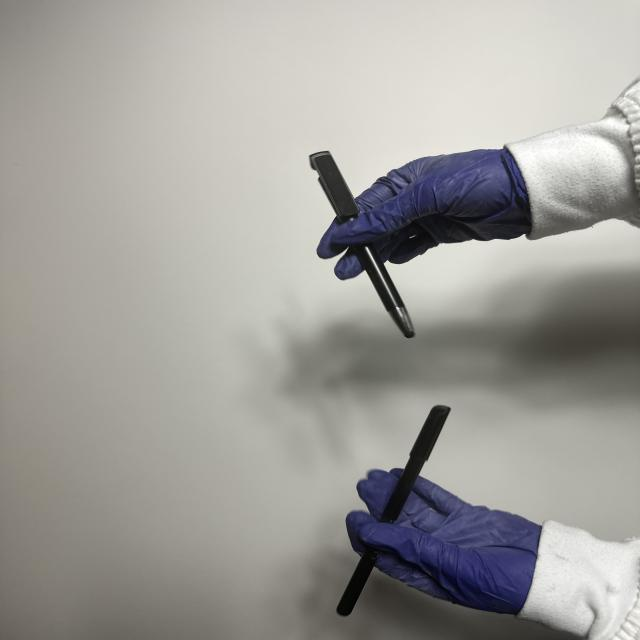gloves_contaminated: (346, 468, 541, 615), (317, 149, 532, 280)
